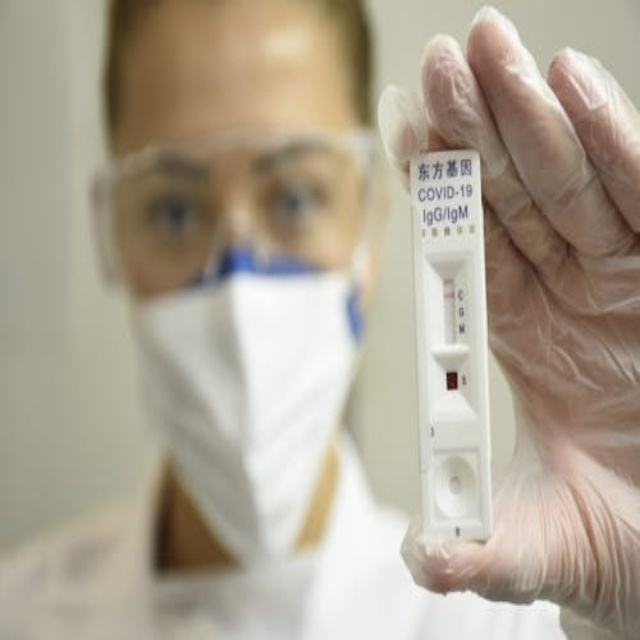Gafas: (90, 122, 386, 295)
Guantes: (379, 4, 636, 632)
Mascara: (120, 234, 372, 571)
